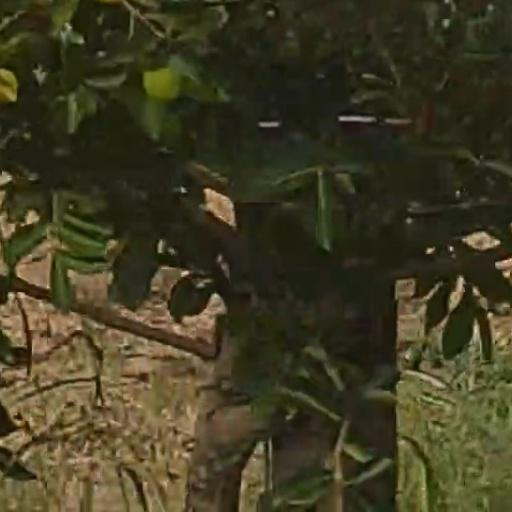acerola: (142, 72, 179, 99)
